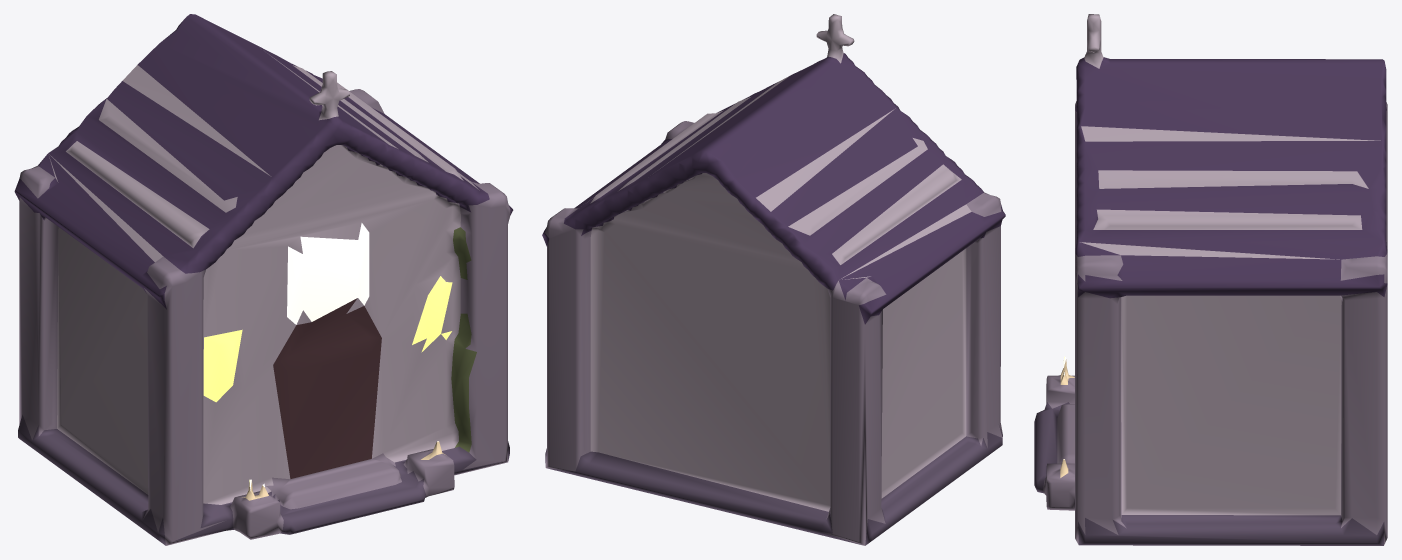
File: chapel.glb
3 views of the same model, side by side, from view 1: azimuth 30°, elevation 25°; view 2: azimuth 150°, elevation 25°; view 3: azimuth 270°, elevation 25° (orthographic). The views are drawn at different scales.
Visible parts, largest first — view 1: chapel; view 2: chapel; view 3: chapel.
Part boxes in pixels (box(x1,y1,x2,y2)): chapel: box(14, 14, 513, 545); chapel: box(542, 14, 1005, 545); chapel: box(1034, 14, 1387, 545).
Bounding box in the file's own units: 6.04 × 6.95 × 5.02.
